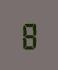eight: (19, 20, 37, 49)
